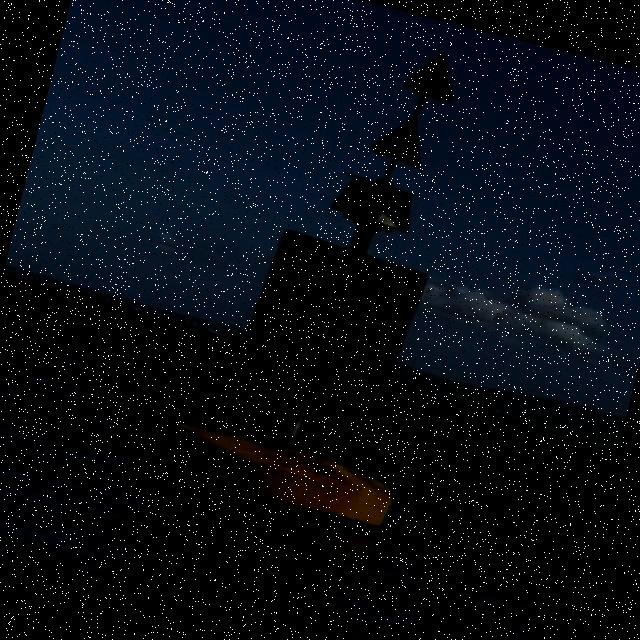marque: (134, 8, 494, 544)
